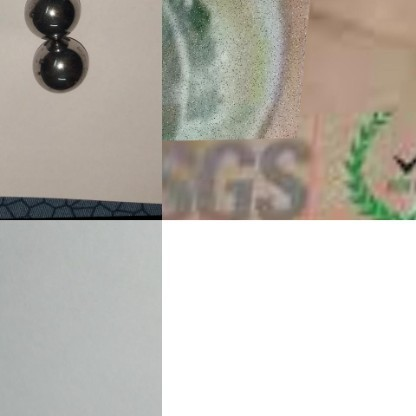ironball: (162, 0, 294, 141), (27, 37, 89, 95), (23, 0, 78, 40)
